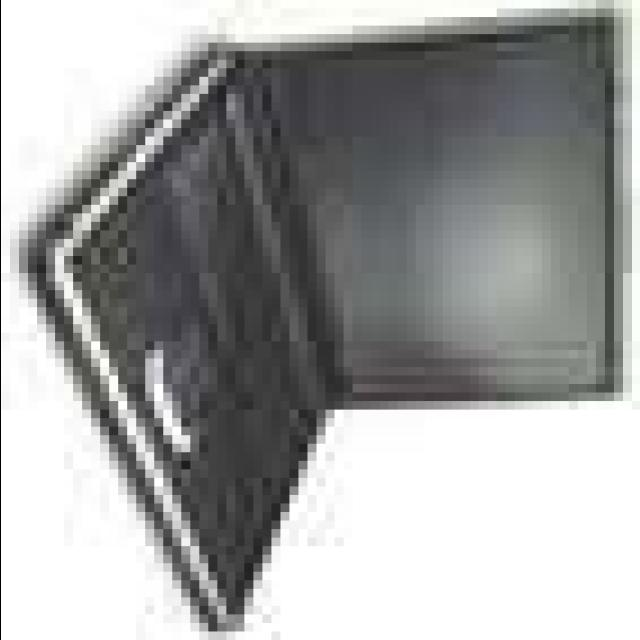laptop: (86, 6, 610, 630)
